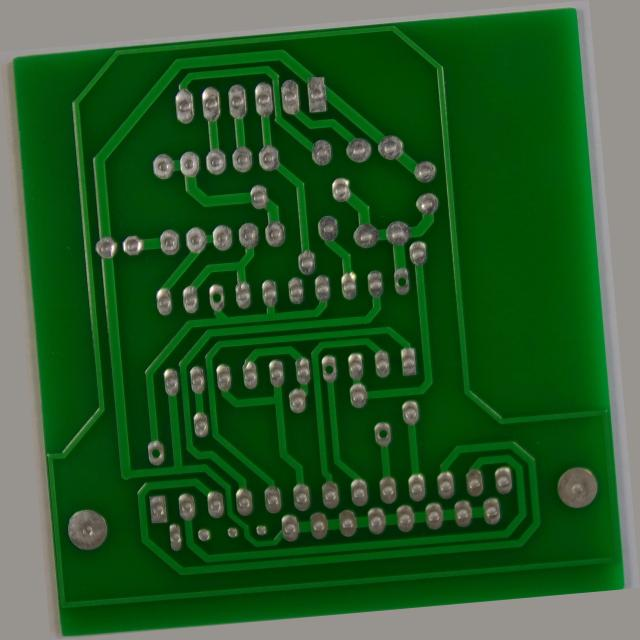missing_hole: (118, 437, 144, 460), (401, 273, 422, 298), (369, 438, 387, 461), (202, 275, 220, 298), (316, 365, 335, 385)
